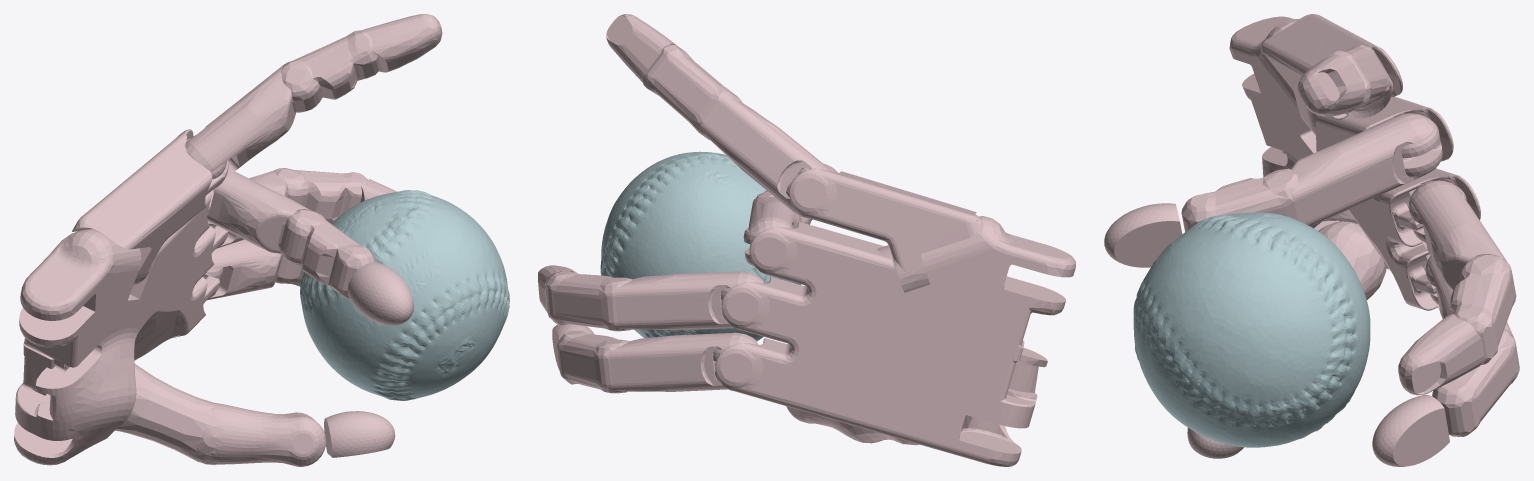
The model's file is grasp_3.glb.
3 renders of one model, left to right at view 1: azimuth 30°, elevation 25°; view 2: azimuth 150°, elevation 25°; view 3: azimuth 270°, elevation 25°, orthographic. The views are drawn at different scales.
Parts seen in each view (by area): view 1: world; view 2: world; view 3: world.
Part boxes in pixels (<box>): world: <box>14,14,509,466</box>; world: <box>538,14,1075,466</box>; world: <box>1104,14,1519,466</box>.
Size of the model in its own units: 0.1916 by 0.152 by 0.1274.
